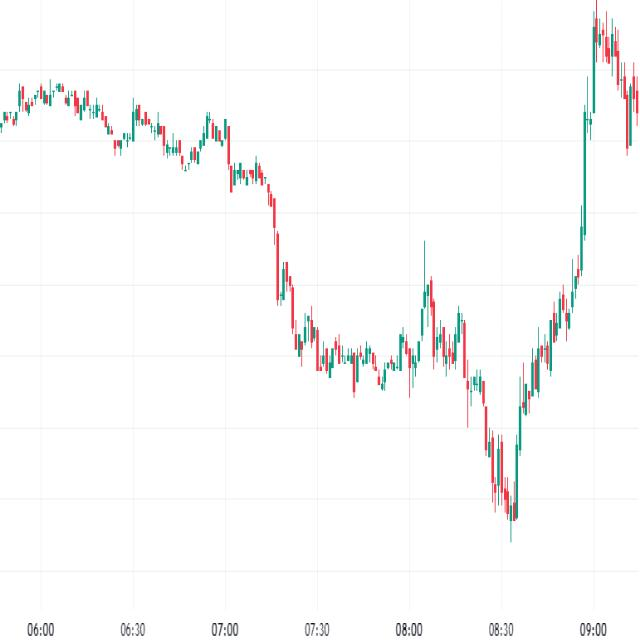Cup-and-handle: (269, 267, 471, 409)
